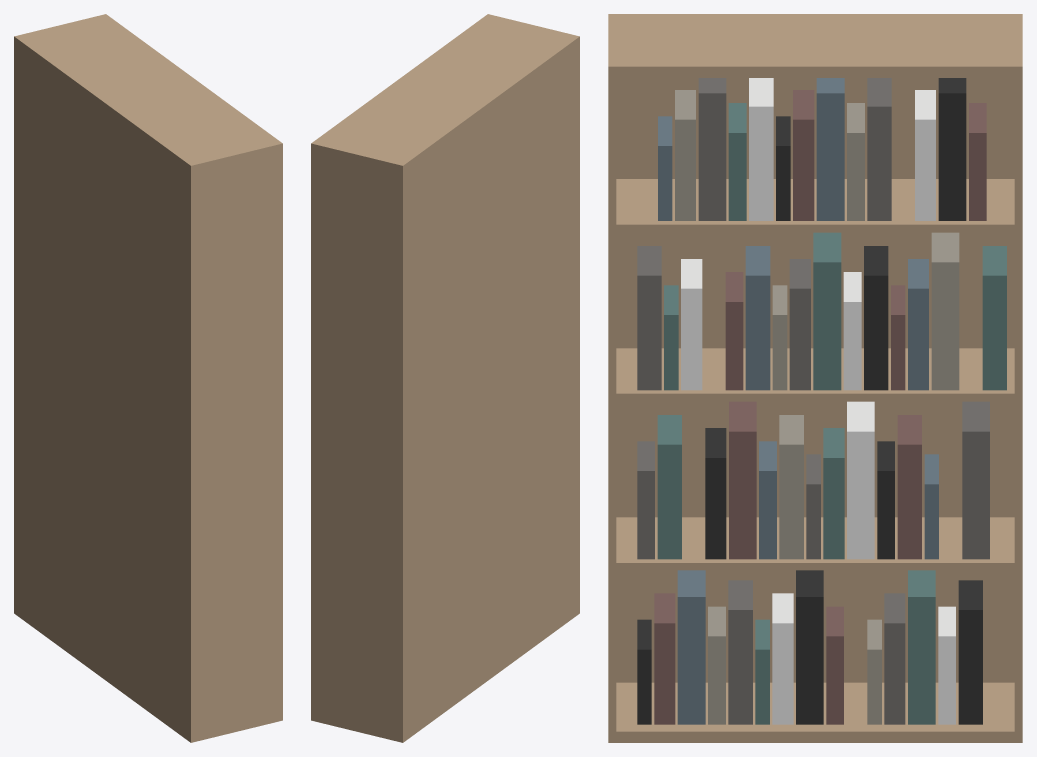
The model's file is 1m-bookshelf_final-optimized.glb.
The picture shows the model from 3 angles, left to right: view 1: azimuth 30°, elevation 25°; view 2: azimuth 150°, elevation 25°; view 3: azimuth 270°, elevation 25°; orthographic projection. The views are drawn at different scales.
Parts seen in each view (by area): view 1: BShelf1_E_back; view 2: BShelf1_E_back; view 3: BShelf1_E_back.
Part boxes in pixels (x1,y1,x2,y2): BShelf1_E_back: [14, 14, 282, 742]; BShelf1_E_back: [311, 14, 579, 742]; BShelf1_E_back: [608, 14, 1022, 742].
Bounding box in the file's own units: 0.3001 × 1.8 × 1.
